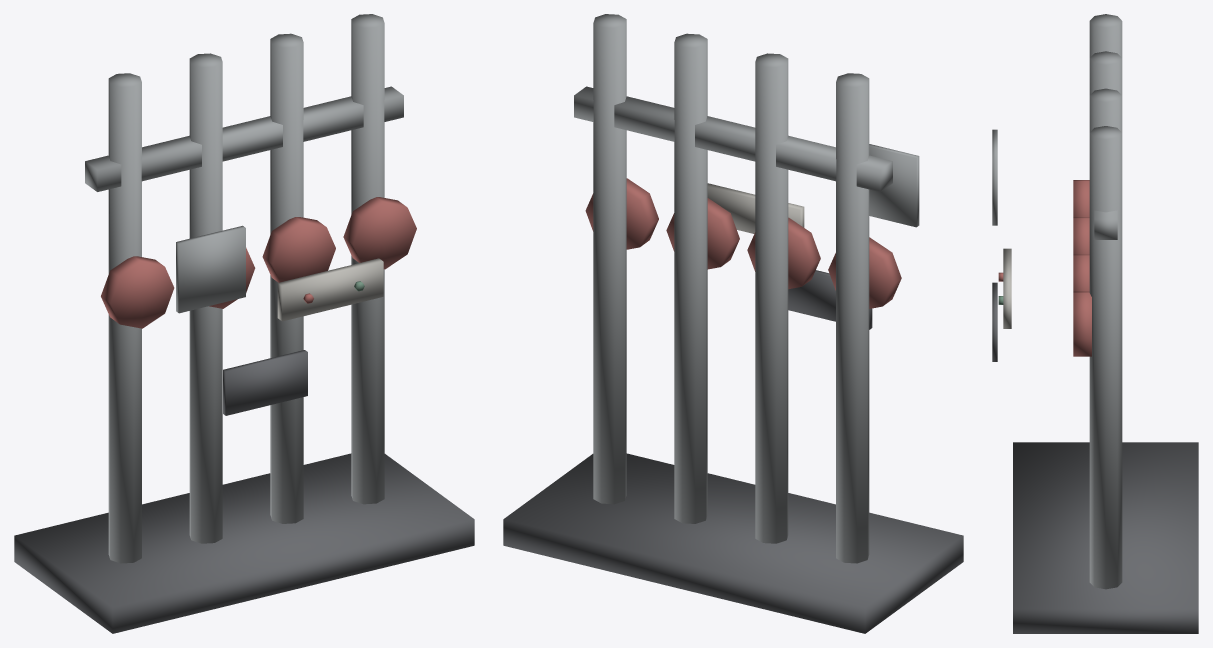
Rendered from pipe_valve_station__weathered.glb.
3 renders of one model, left to right at view 1: azimuth 30°, elevation 25°; view 2: azimuth 150°, elevation 25°; view 3: azimuth 270°, elevation 25°, orthographic. The views are drawn at different scales.
Visible parts, largest first — view 1: world; view 2: world; view 3: world.
Part boxes in pixels (x1=…): world: x1=14, y1=14, x2=474, y2=633; world: x1=503, y1=14, x2=963, y2=633; world: x1=992, y1=14, x2=1198, y2=633.
Bounding box in the file's own units: 0.85 × 1.13 × 0.445.
